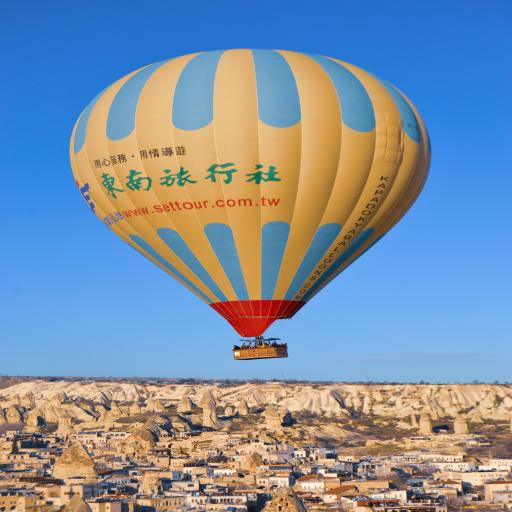hot air ballon: (62, 44, 436, 360)
